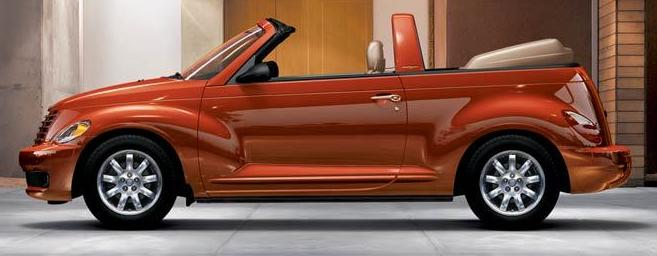backlight: (555, 96, 617, 146)
headlight: (42, 107, 93, 144)
side_glass: (222, 16, 438, 76)
